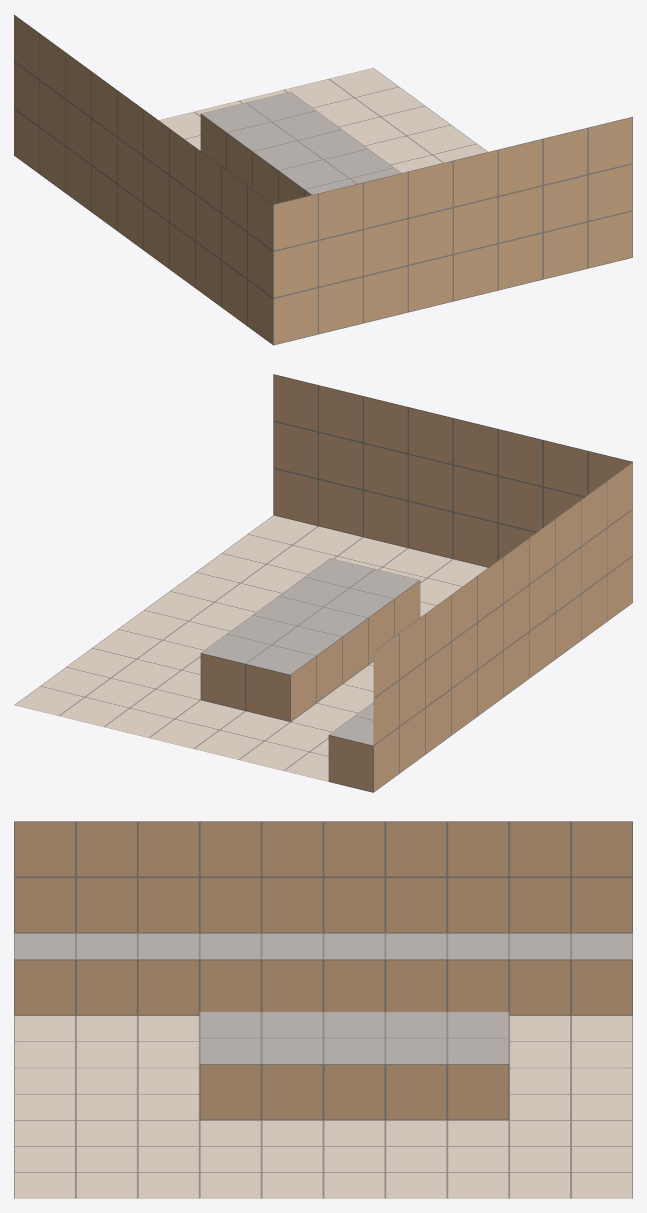
Rendered from ChefShack.dae.
3 views of the same model, one above another, from view 1: azimuth 30°, elevation 25°; view 2: azimuth 150°, elevation 25°; view 3: azimuth 270°, elevation 25° (orthographic). The views are drawn at different scales.
Parts seen in each view (by area): view 1: ChefShack-col; view 2: ChefShack-col; view 3: ChefShack-col.
Boxes of the visible parts, x1,y1,x2,y2 form: ChefShack-col: (14,15,632,345); ChefShack-col: (14,374,632,792); ChefShack-col: (14,821,632,1198).
Bounding box in the file's own units: 7.75 × 9.69 × 2.91.
Materials: 1 (1 with a texture image).
